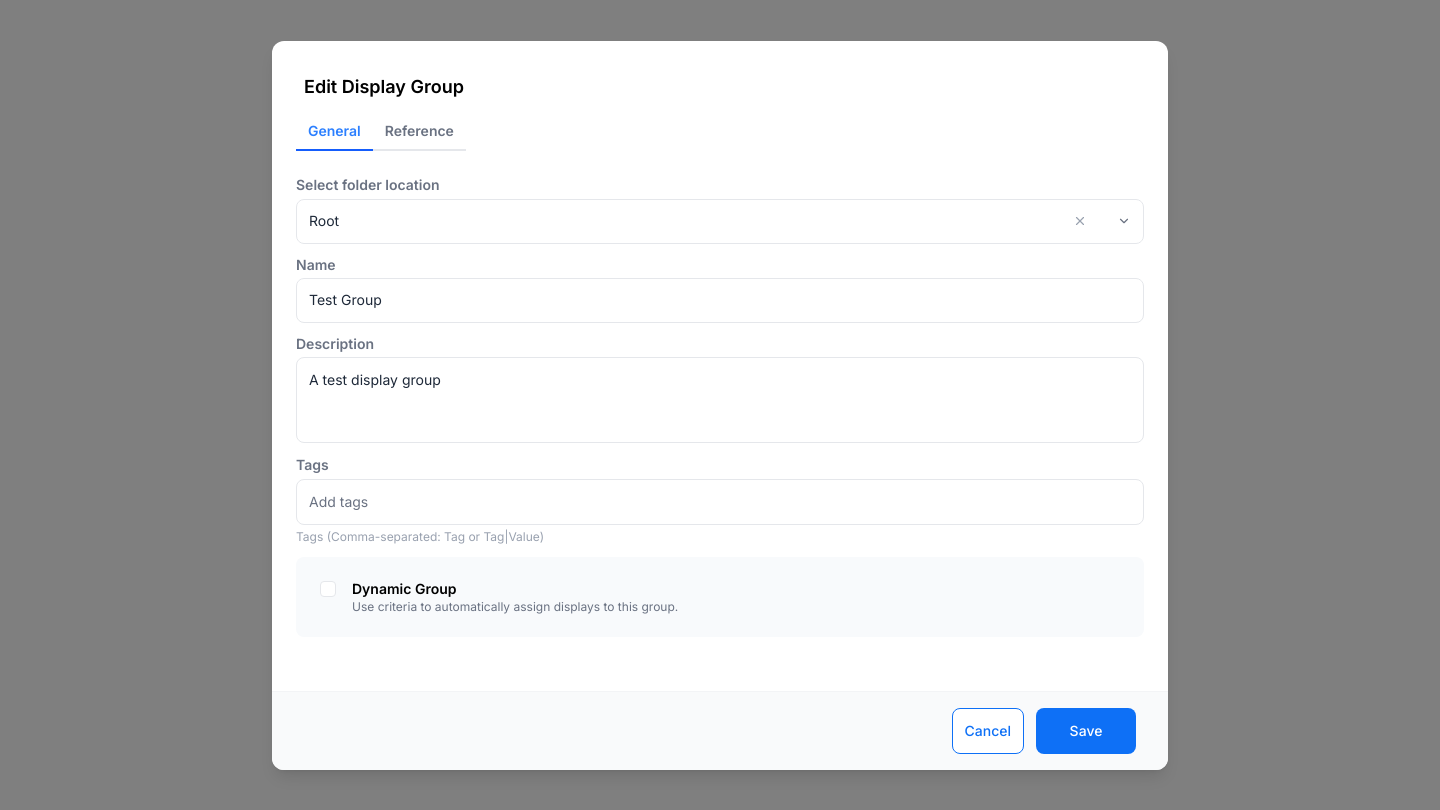
Test: DisplayGroup - edit form fields › Failed save keeps the modal open and shows the error
Check: the dialog is shown, box [272,40,1168,770]
Step 1. Click the button "Save" → (1086, 730), box [1036,708,1136,754]
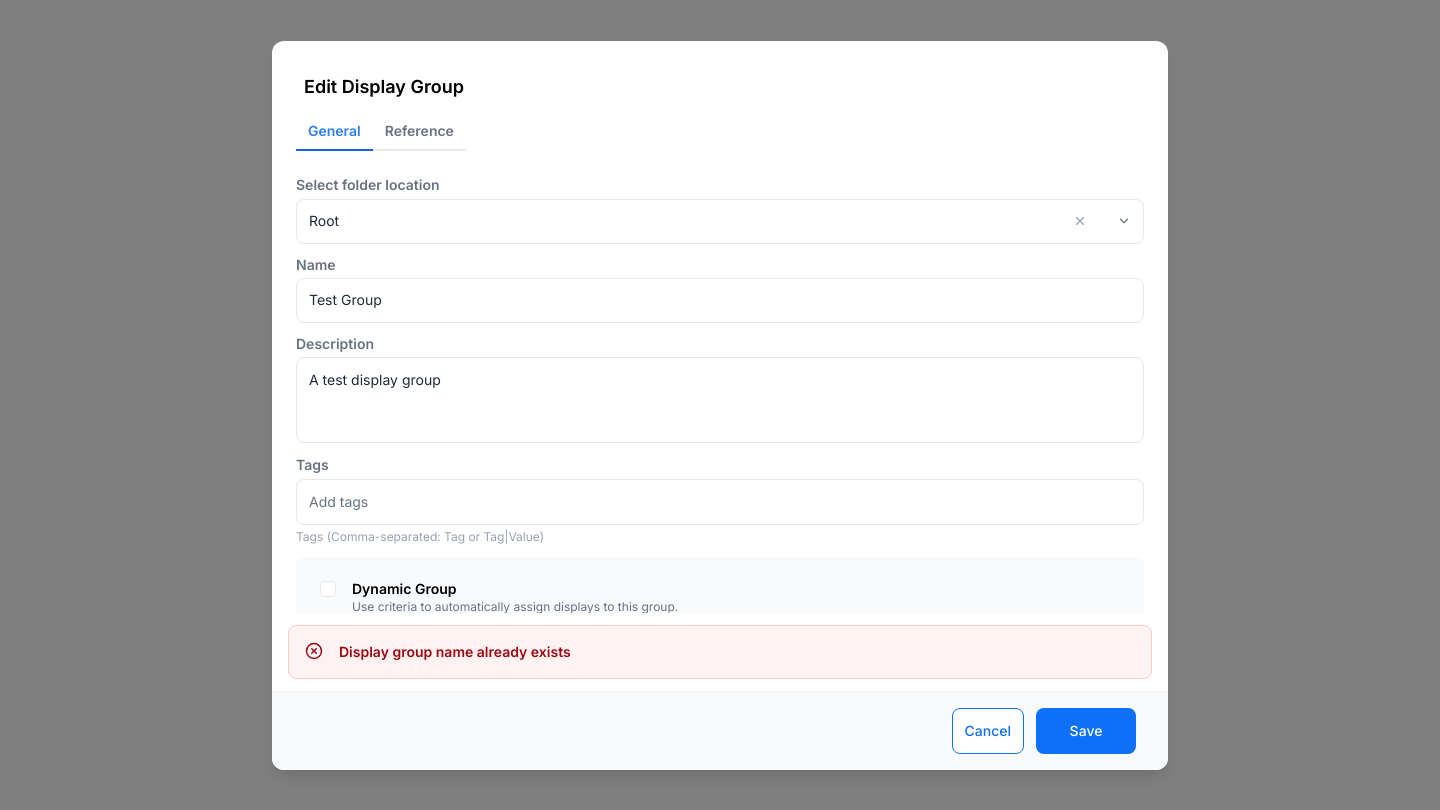
Check: the dialog is shown, box [272,40,1168,770]
Check: the heading "Display group name already exists" is shown, box [339,642,571,662]
